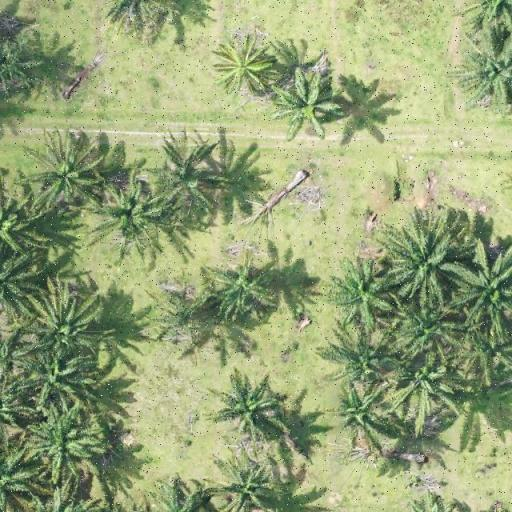Ganoderma: (219, 264, 267, 314), (217, 39, 268, 86), (285, 81, 331, 124)
